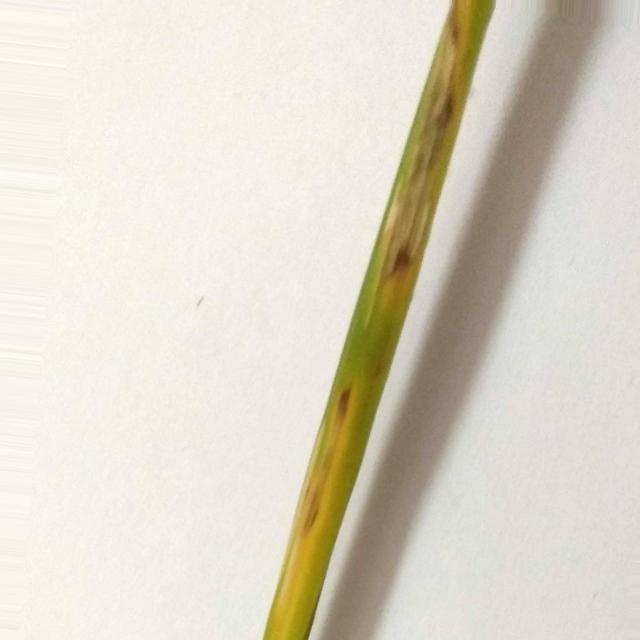Brown_Spot: (440, 86, 464, 146), (302, 489, 322, 532), (390, 244, 415, 273), (409, 148, 424, 183), (338, 388, 351, 423)
